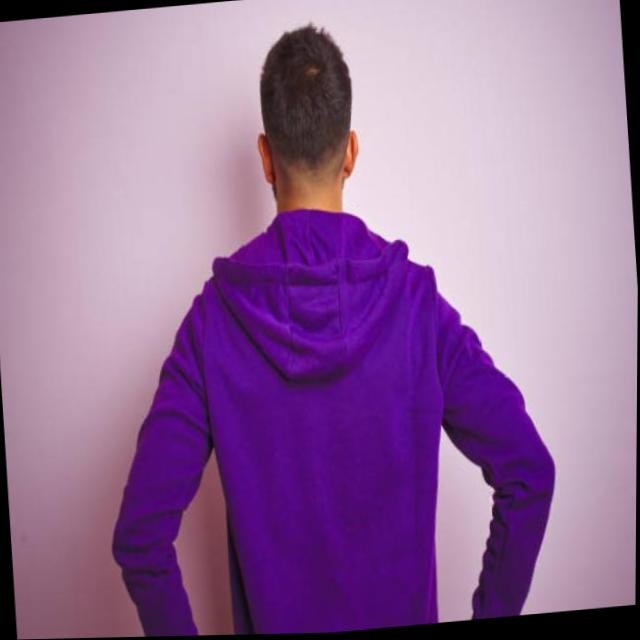no helmet: (247, 18, 366, 225)
